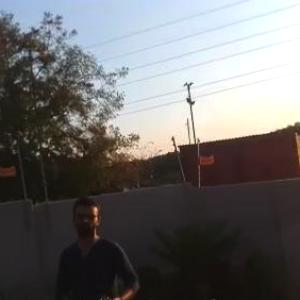follow: (52, 190, 149, 299)
